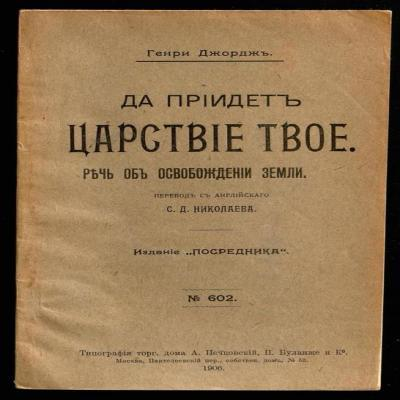rare_books: (12, 8, 400, 392)
